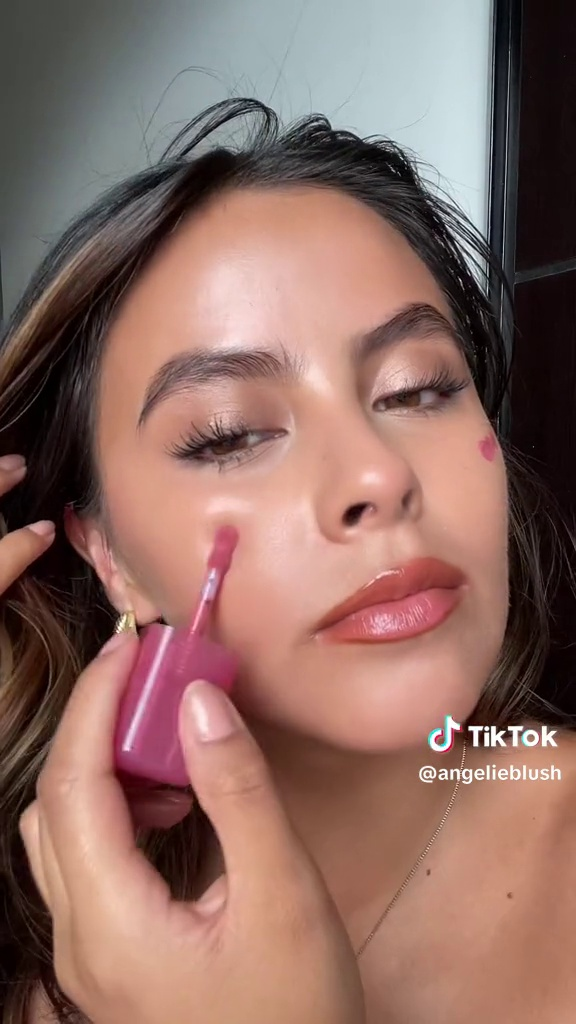train' :'yolo_data/train/images',: (99, 511, 263, 793)
